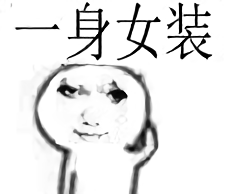dragon: (57, 78, 128, 141)
